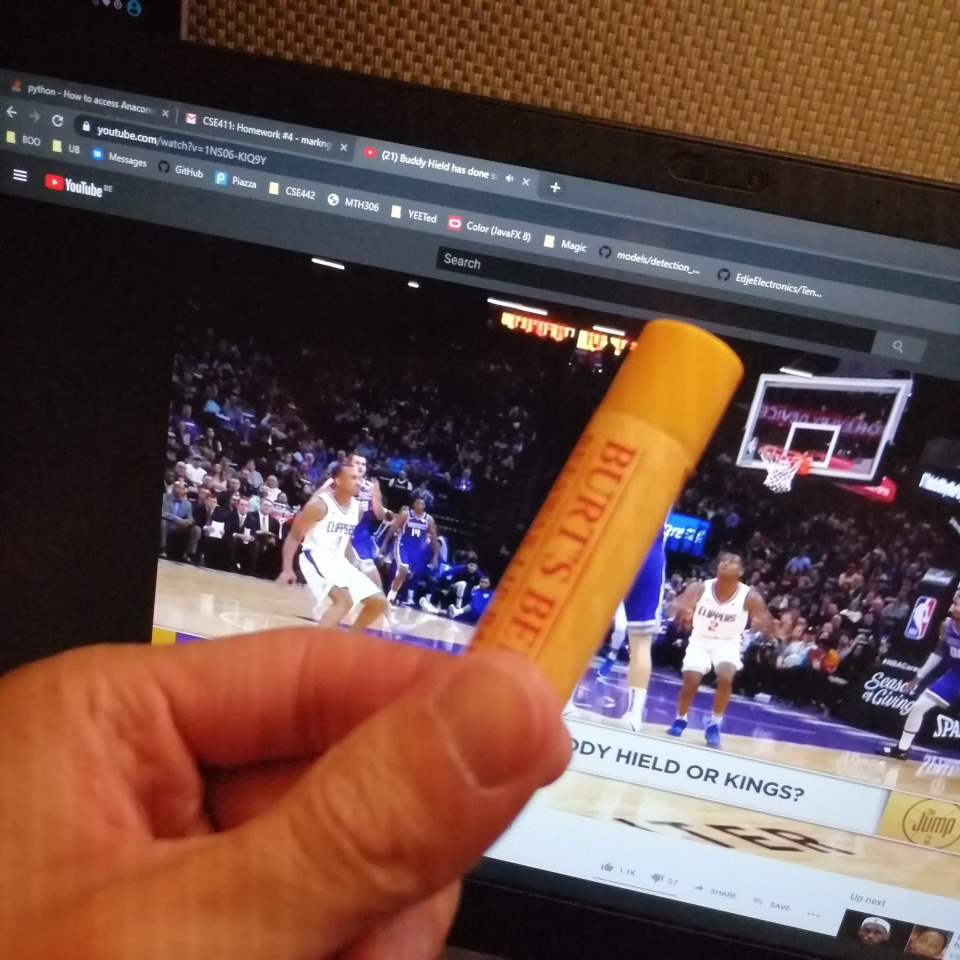chapstick: (462, 314, 753, 715)
